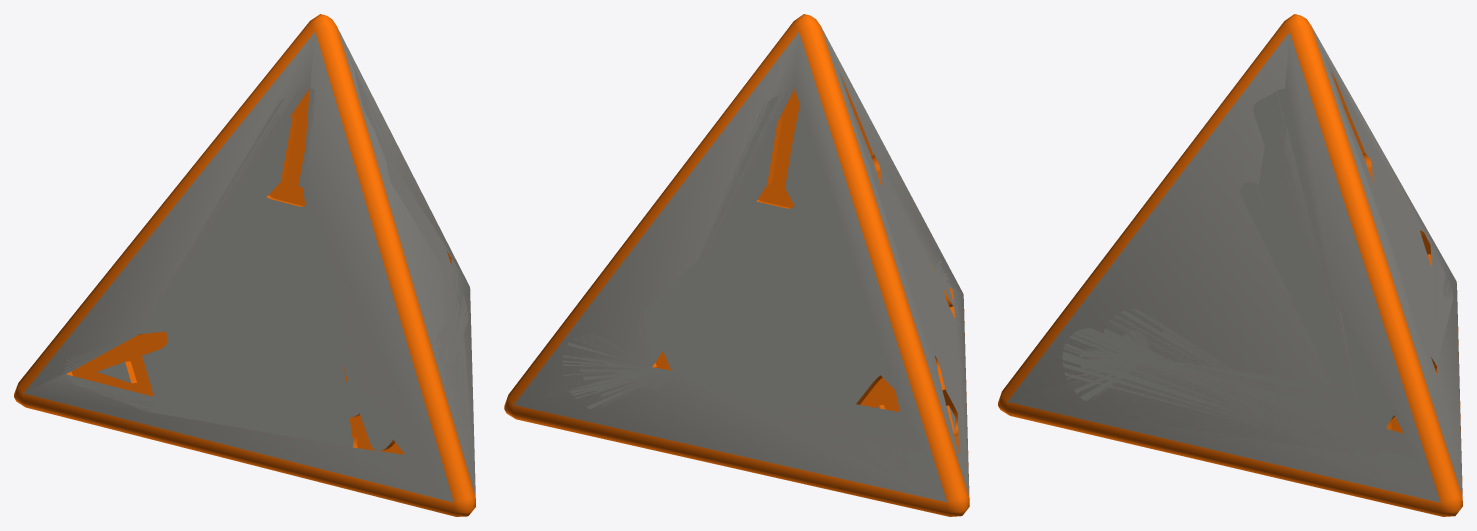
The model's file is D4Dice_3.fbx.
The picture shows the model from 3 angles, left to right: view 1: azimuth 30°, elevation 25°; view 2: azimuth 150°, elevation 25°; view 3: azimuth 270°, elevation 25°; orthographic projection.
Parts seen in each view (by area): view 1: Cone; view 2: Cone; view 3: Cone.
Boxes of the visible parts, x1,y1,x2,y2 form: Cone: (14,14,475,516); Cone: (504,14,969,516); Cone: (998,14,1462,516).
Bounding box in the file's own units: 240 × 200 × 211.
